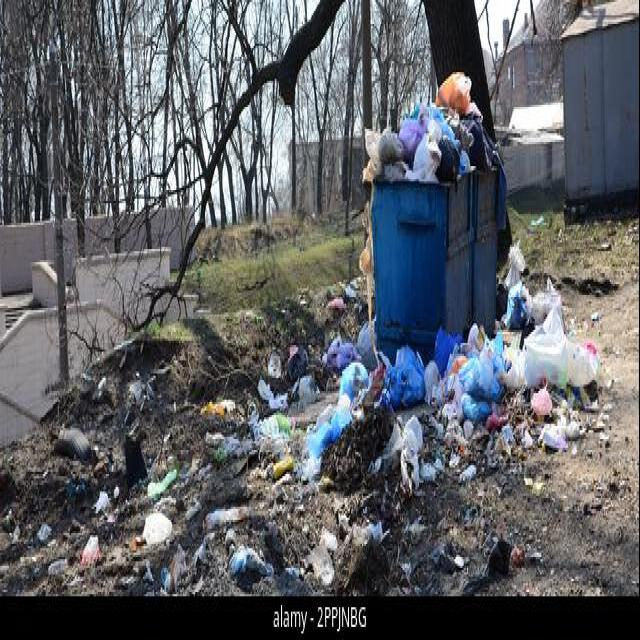trash: (137, 94, 517, 531)
